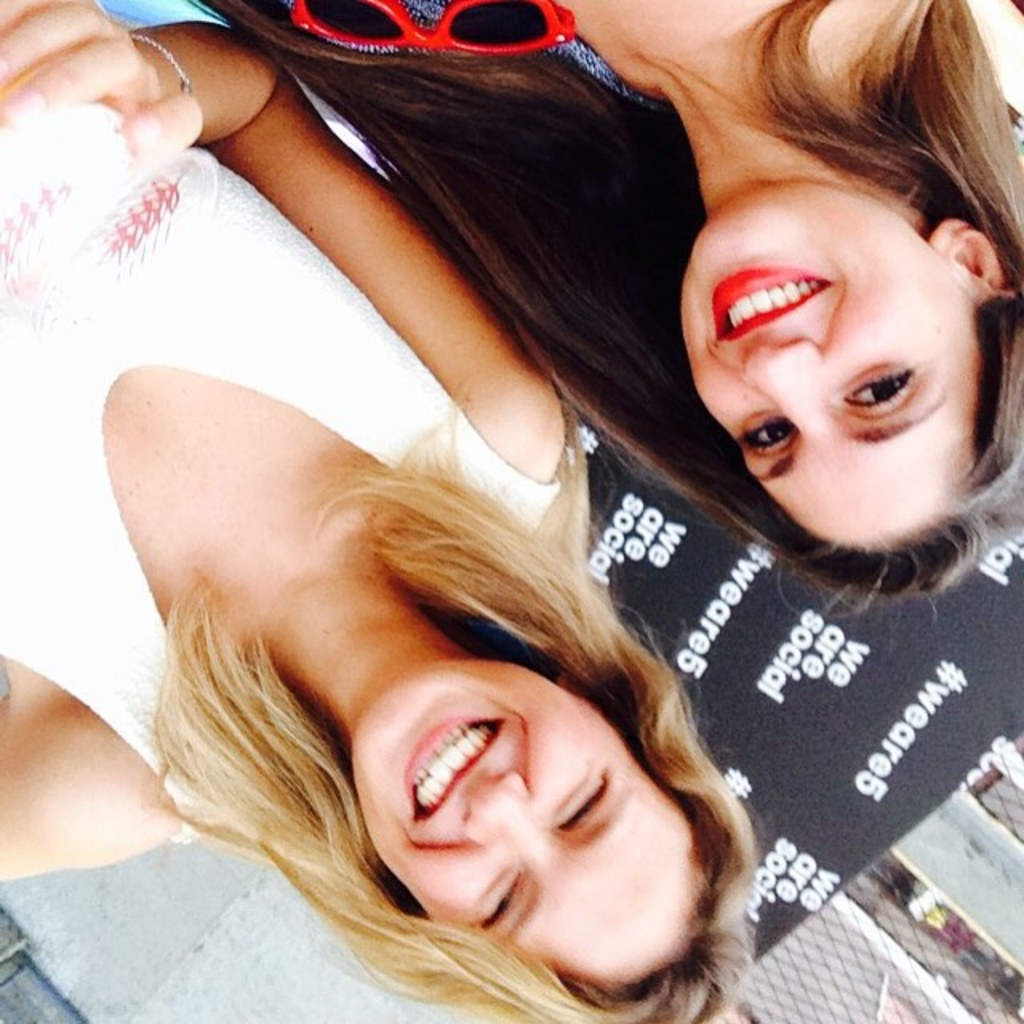Human_hand: (5, 0, 205, 210)
